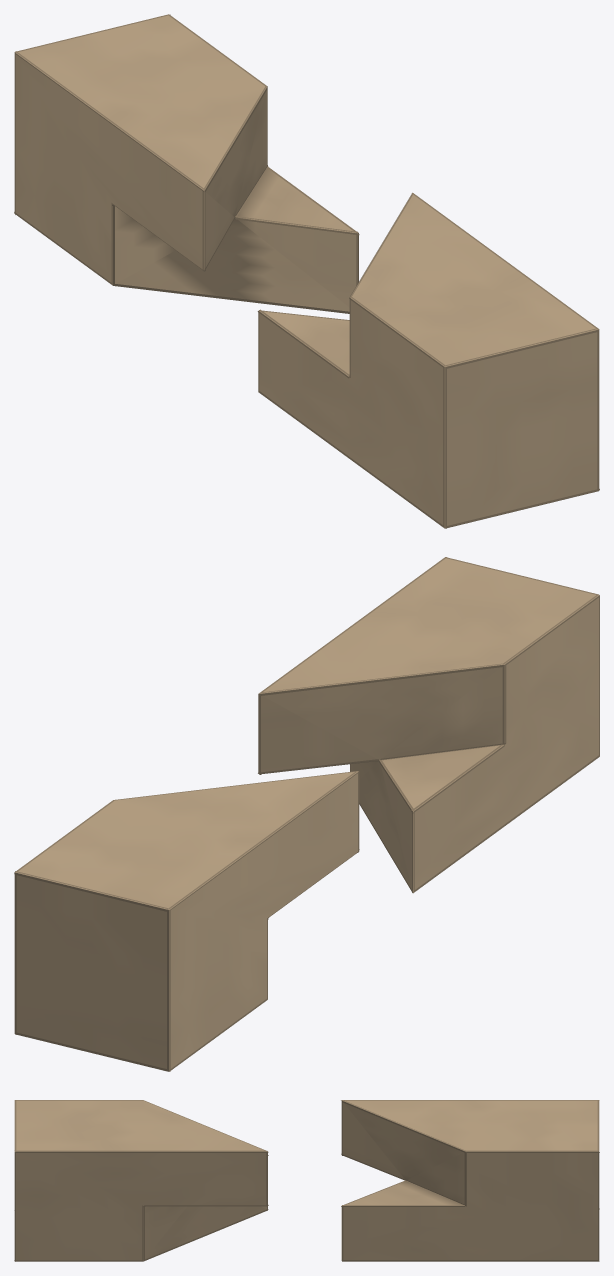
Rendered from hira-isuka-tsugi.glb.
3 views of the same model, one above another, from view 1: azimuth 30°, elevation 25°; view 2: azimuth 150°, elevation 25°; view 3: azimuth 270°, elevation 25° (orthographic). The views are drawn at different scales.
Visible parts, largest first — view 1: part-a, part-b; view 2: part-a, part-b; view 3: part-b, part-a.
Part boxes in pixels (x1=…): part-a: x1=257, y1=192, x2=599, y2=528; part-b: x1=14, y1=14, x2=359, y2=313; part-a: x1=258, y1=557, x2=599, y2=893; part-b: x1=14, y1=771, x2=359, y2=1071; part-b: x1=341, y1=1100, x2=599, y2=1261; part-a: x1=14, y1=1100, x2=268, y2=1261.
Bounding box in the file's own units: 0.1218 × 0.1213 × 0.5814.
